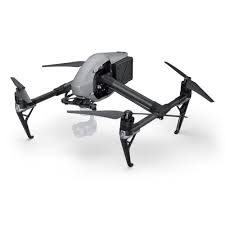Drone: (9, 32, 216, 173)
